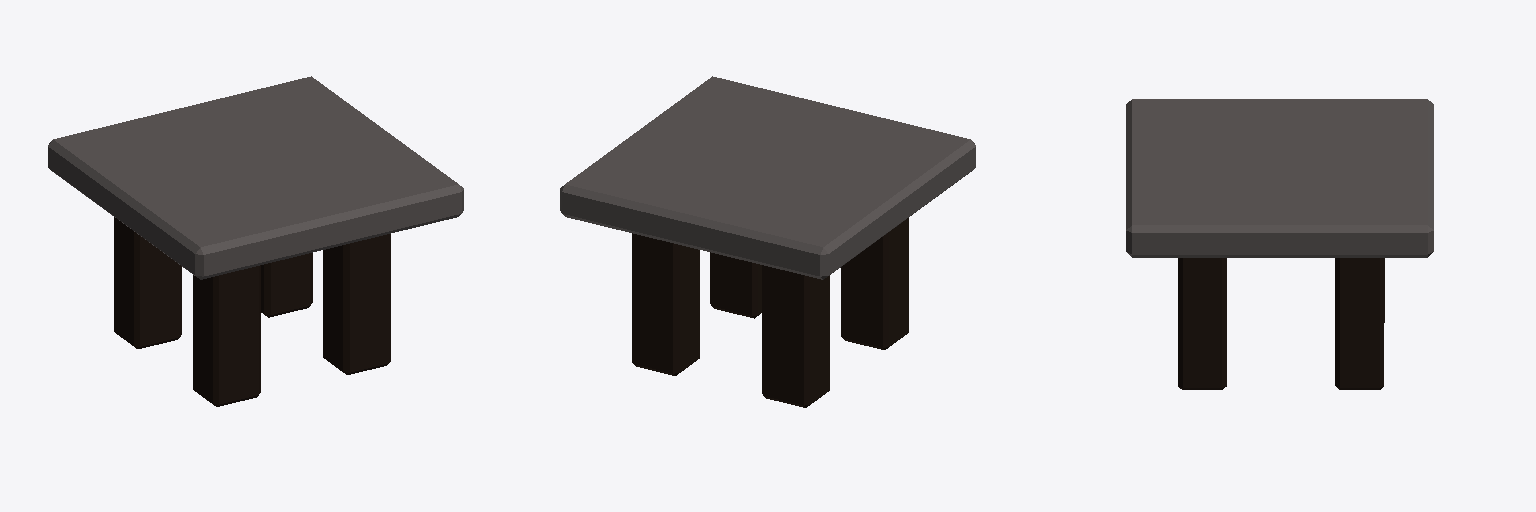
Rendered from bedSideTable.obj.
The picture shows the model from 3 angles: view 1: azimuth 30°, elevation 25°; view 2: azimuth 150°, elevation 25°; view 3: azimuth 270°, elevation 25°; orthographic projection.
Parts seen in each view (by area): view 1: Box001, Box003, Box004, Box002, Box005; view 2: Box001, Box002, Box005, Box003, Box004; view 3: Box001, Box004, Box005.
Part boxes in pixels (left/top/right/bottom): Box001: left=48, top=76, right=463, bottom=279; Box003: left=193, top=265, right=260, bottom=406; Box004: left=323, top=234, right=390, bottom=374; Box002: left=114, top=217, right=181, bottom=348; Box005: left=261, top=253, right=312, bottom=317; Box001: left=560, top=76, right=975, bottom=279; Box002: left=762, top=265, right=829, bottom=407; Box005: left=632, top=233, right=699, bottom=375; Box003: left=841, top=218, right=908, bottom=349; Box004: left=710, top=252, right=761, bottom=318; Box001: left=1126, top=99, right=1433, bottom=257; Box004: left=1178, top=258, right=1226, bottom=389; Box005: left=1335, top=258, right=1383, bottom=389.
Size of the model in its own units: 19.84 by 13.27 by 19.64.